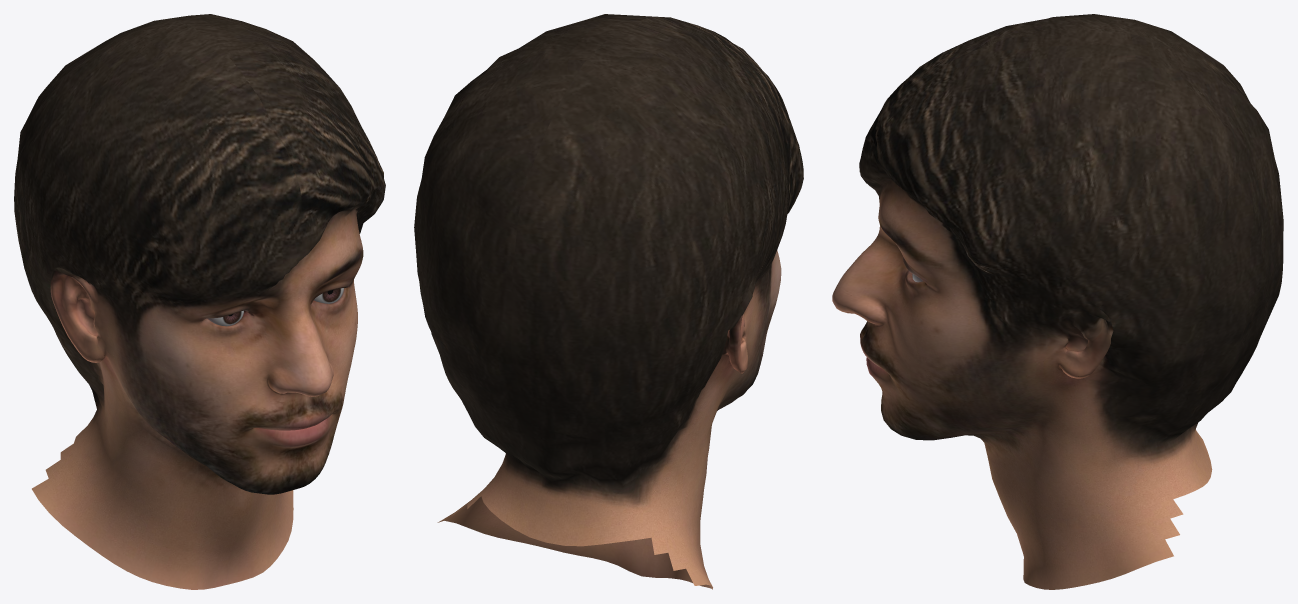
The model's file is chu-gb.glb.
The picture shows the model from 3 angles, left to right: view 1: azimuth 30°, elevation 25°; view 2: azimuth 150°, elevation 25°; view 3: azimuth 270°, elevation 25°; orthographic projection. The views are drawn at different scales.
Visible parts, largest first — view 1: gb-head; view 2: gb-head; view 3: gb-head.
Part boxes in pixels (box(x1,y1,x2,y2)): gb-head: box(14, 14, 385, 589); gb-head: box(414, 14, 803, 589); gb-head: box(832, 14, 1283, 589).
Bounding box in the file's own units: 0.1821 × 0.3063 × 0.2317.
Materials: 3 (3 with a texture image).
